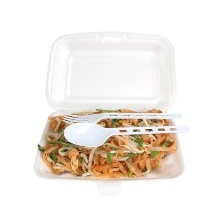foam_box: (29, 24, 194, 201)
